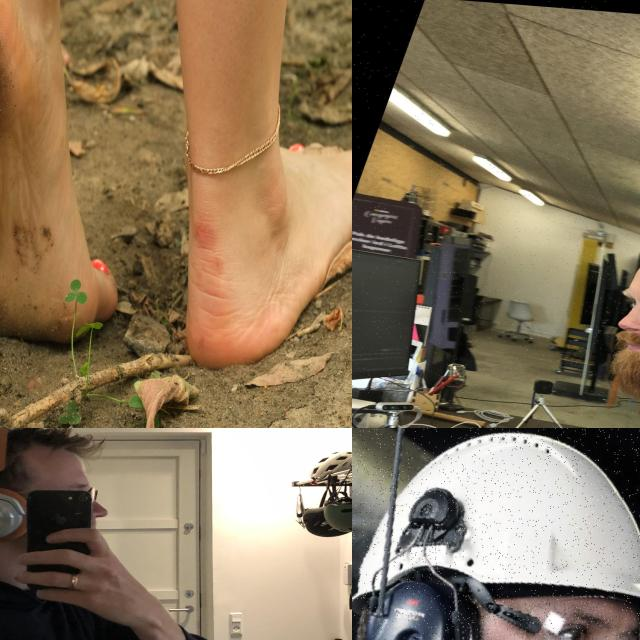Barefoots: (0, 0, 118, 344), (185, 142, 352, 370)
Ear-protection: (359, 564, 479, 640), (0, 428, 65, 546)
glasses: (496, 599, 640, 640)
head_helmet: (352, 430, 640, 605)
head_nohelmet: (0, 428, 98, 489)
person: (0, 428, 249, 640)
